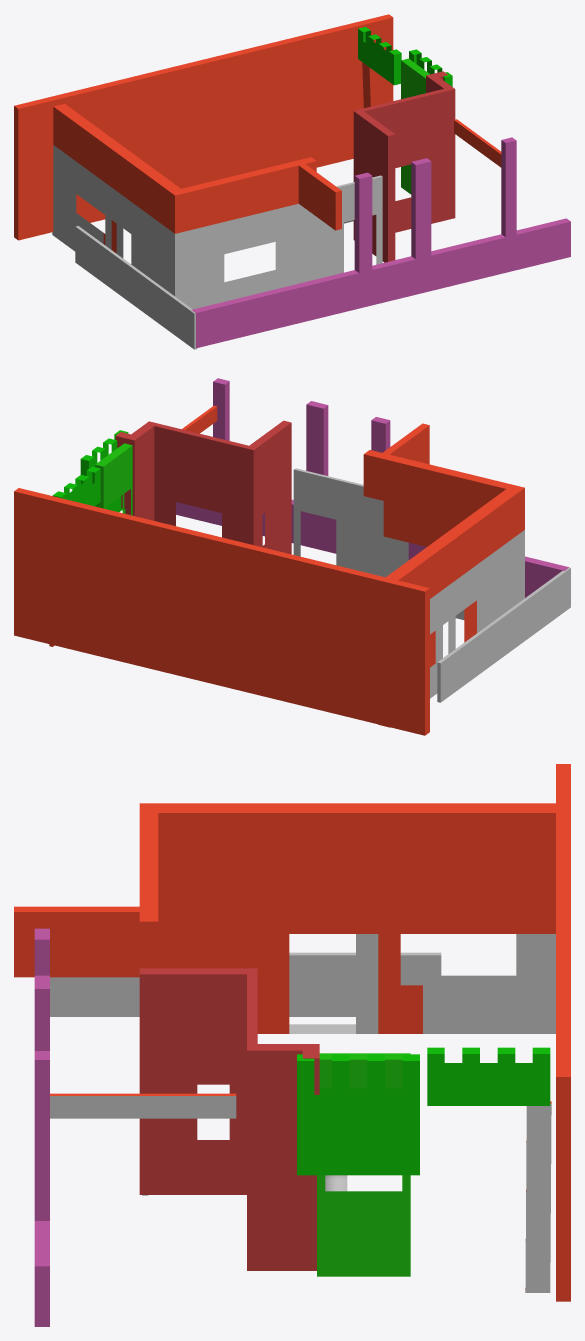
File: wall.obj
3 views of the same model, one above another, from view 1: azimuth 30°, elevation 25°; view 2: azimuth 150°, elevation 25°; view 3: azimuth 270°, elevation 25° (orthographic). The views are drawn at different scales.
Parts seen in each view (by area): view 1: Cube.001_Cube.008, Cube.009_Cube.013, Cube_Cube.007, Cube.008_Cube.012, Cube.002_Cube.009, Cube.026_Cube.030, Cube.011_Cube.001, Cube.012_Cube.016, Cube.007_Cube.011, Cube.011_Cube.015, Cube.007_Cube.001; view 2: Cube.001_Cube.008, Cube.009_Cube.013, Cube.008_Cube.012, Cube_Cube.007, Cube.026_Cube.030, Cube.002_Cube.009, Cube.012_Cube.016, Cube.011_Cube.001, Cube.011_Cube.015, Cube.007_Cube.011; view 3: Cube.009_Cube.013, Cube.008_Cube.012, Cube.011_Cube.015, Cube.012_Cube.016, Cube.002_Cube.009, Cube.001_Cube.008, Cube.011_Cube.001, Cube_Cube.007, Cube.007_Cube.011, Cube.007_Cube.001.
Part boxes in pixels (left/top/right/bottom): Cube.001_Cube.008: left=14, top=14, right=393, bottom=240; Cube.009_Cube.013: left=52, top=103, right=341, bottom=309; Cube_Cube.007: left=192, top=137, right=570, bottom=348; Cube.008_Cube.012: left=353, top=71, right=455, bottom=262; Cube.002_Cube.009: left=75, top=226, right=197, bottom=349; Cube.026_Cube.030: left=298, top=175, right=382, bottom=283; Cube.011_Cube.001: left=358, top=26, right=401, bottom=85; Cube.012_Cube.016: left=401, top=58, right=429, bottom=194; Cube.007_Cube.011: left=454, top=119, right=501, bottom=167; Cube.011_Cube.015: left=409, top=49, right=452, bottom=86; Cube.007_Cube.001: left=362, top=62, right=373, bottom=108; Cube.001_Cube.008: left=14, top=488, right=429, bottom=735; Cube.009_Cube.013: left=363, top=423, right=524, bottom=727; Cube.008_Cube.012: left=115, top=420, right=291, bottom=554; Cube_Cube.007: left=176, top=378, right=568, bottom=597; Cube.026_Cube.030: left=293, top=468, right=383, bottom=576; Cube.002_Cube.009: left=437, top=567, right=570, bottom=702; Cube.012_Cube.016: left=95, top=443, right=132, bottom=515; Cube.011_Cube.001: left=52, top=466, right=100, bottom=506; Cube.011_Cube.015: left=80, top=430, right=128, bottom=512; Cube.007_Cube.011: left=182, top=405, right=217, bottom=433; Cube.009_Cube.013: left=14, top=803, right=555, bottom=1033; Cube.008_Cube.012: left=139, top=968, right=319, bottom=1270; Cube.011_Cube.015: left=297, top=1054, right=419, bottom=1175; Cube.012_Cube.016: left=317, top=1053, right=410, bottom=1276; Cube.002_Cube.009: left=50, top=952, right=441, bottom=1016; Cube.001_Cube.008: left=556, top=764, right=570, bottom=1301; Cube.011_Cube.001: left=427, top=1047, right=550, bottom=1105; Cube_Cube.007: left=34, top=928, right=49, bottom=1326; Cube.007_Cube.011: left=50, top=1093, right=236, bottom=1118; Cube.007_Cube.001: left=525, top=1101, right=551, bottom=1292.
Bounding box in the file's own units: 29.12 × 9.8 × 20.54.
